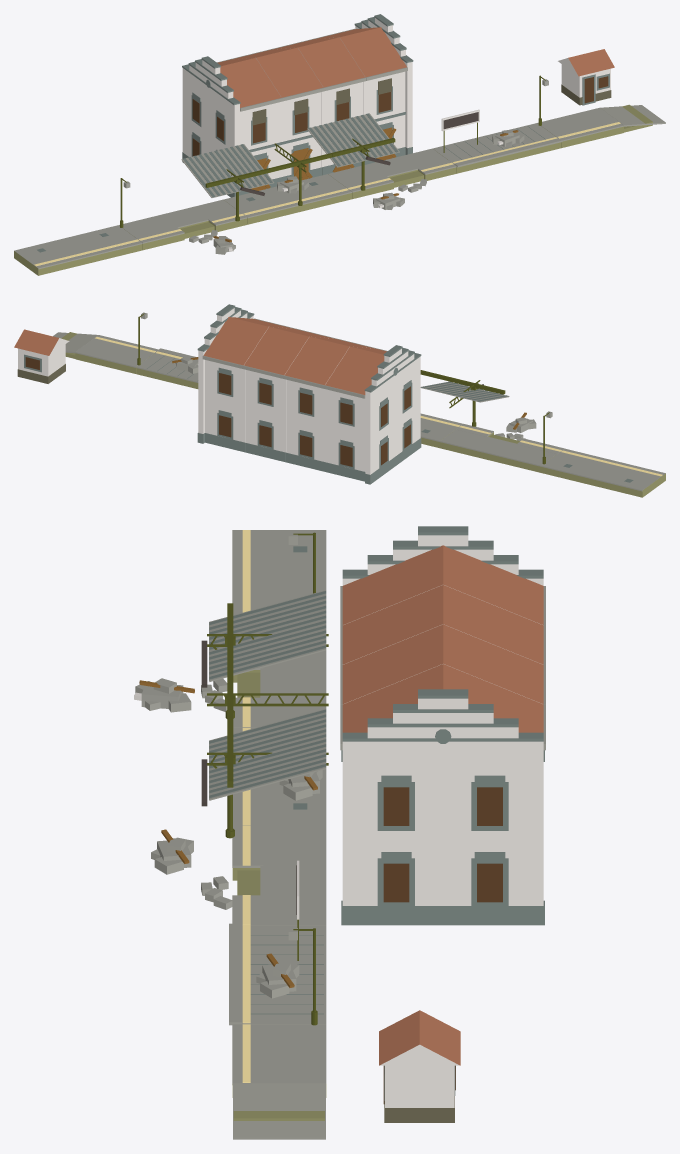
The model's file is SM_EstacionNules_v3_LOD0.fbx.
The picture shows the model from 3 angles, top to bottom: view 1: azimuth 30°, elevation 25°; view 2: azimuth 150°, elevation 25°; view 3: azimuth 270°, elevation 25°; orthographic projection. The views are drawn at different scales.
Parts seen in each view (by area): view 1: SM_bloques.estacion_nules_v3_LOD0; view 2: SM_bloques.estacion_nules_v3_LOD0; view 3: SM_bloques.estacion_nules_v3_LOD0.
Part boxes in pixels (bbox=[...]): SM_bloques.estacion_nules_v3_LOD0: bbox=[14, 14, 665, 275]; SM_bloques.estacion_nules_v3_LOD0: bbox=[14, 304, 665, 497]; SM_bloques.estacion_nules_v3_LOD0: bbox=[134, 526, 545, 1139].
Size of the model in its own units: 59.99 by 10.96 by 17.62.
